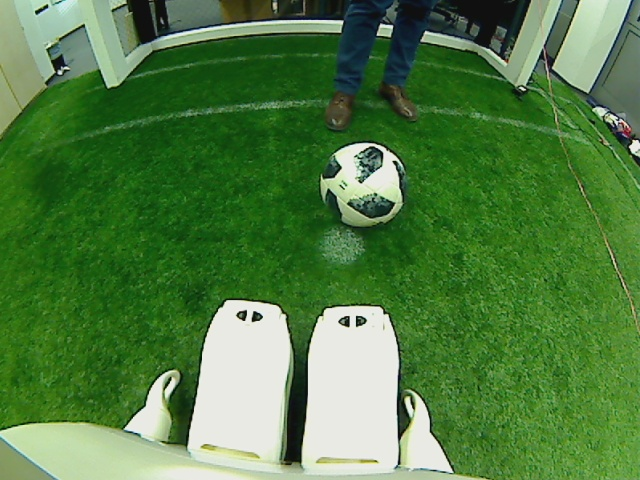ball: (319, 139, 407, 229)
